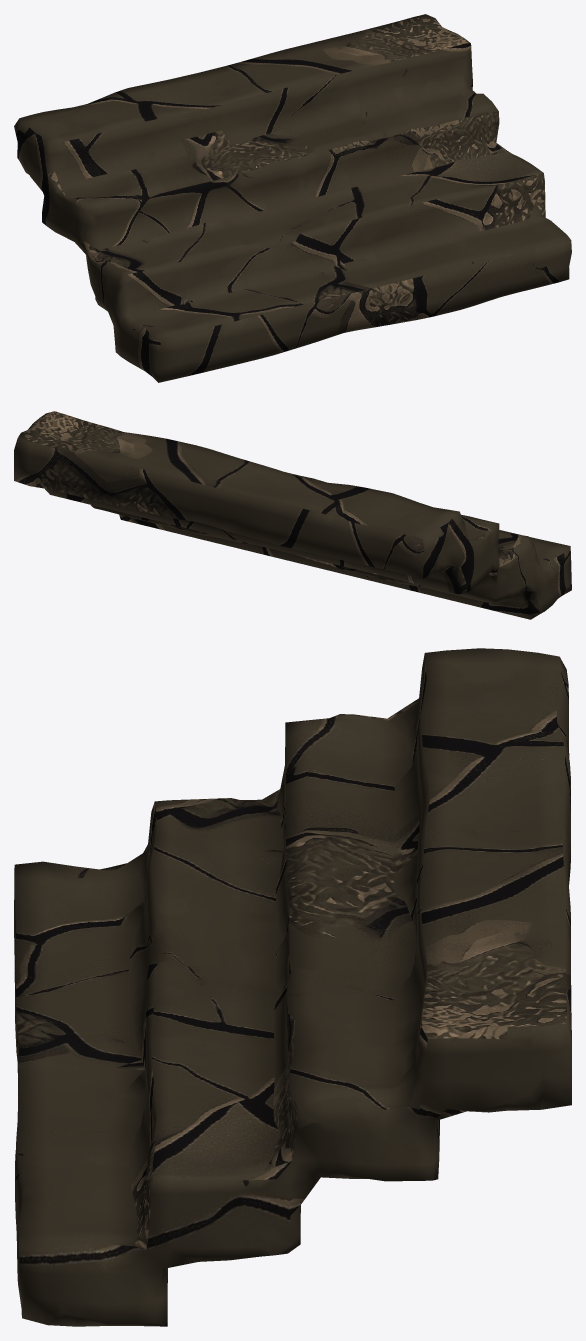
Rendered from final stairs.fbx.
3 views of the same model, one above another, from view 1: azimuth 30°, elevation 25°; view 2: azimuth 150°, elevation 25°; view 3: azimuth 270°, elevation 25° (orthographic). The views are drawn at different scales.
Visible parts, largest first — view 1: Cube; view 2: Cube; view 3: Cube.
Part boxes in pixels (x1,y1,x2,y2): Cube: [14, 14, 571, 382]; Cube: [14, 411, 571, 619]; Cube: [14, 648, 571, 1326].
Bounding box in the file's own units: 300 × 108 × 181.
